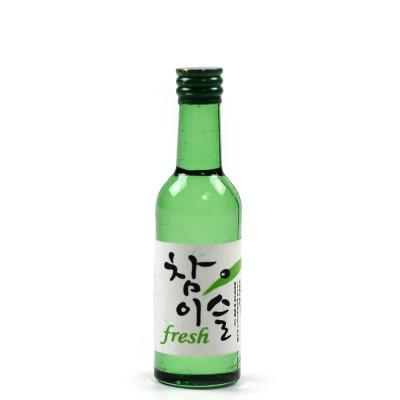soju: (151, 65, 247, 390)
